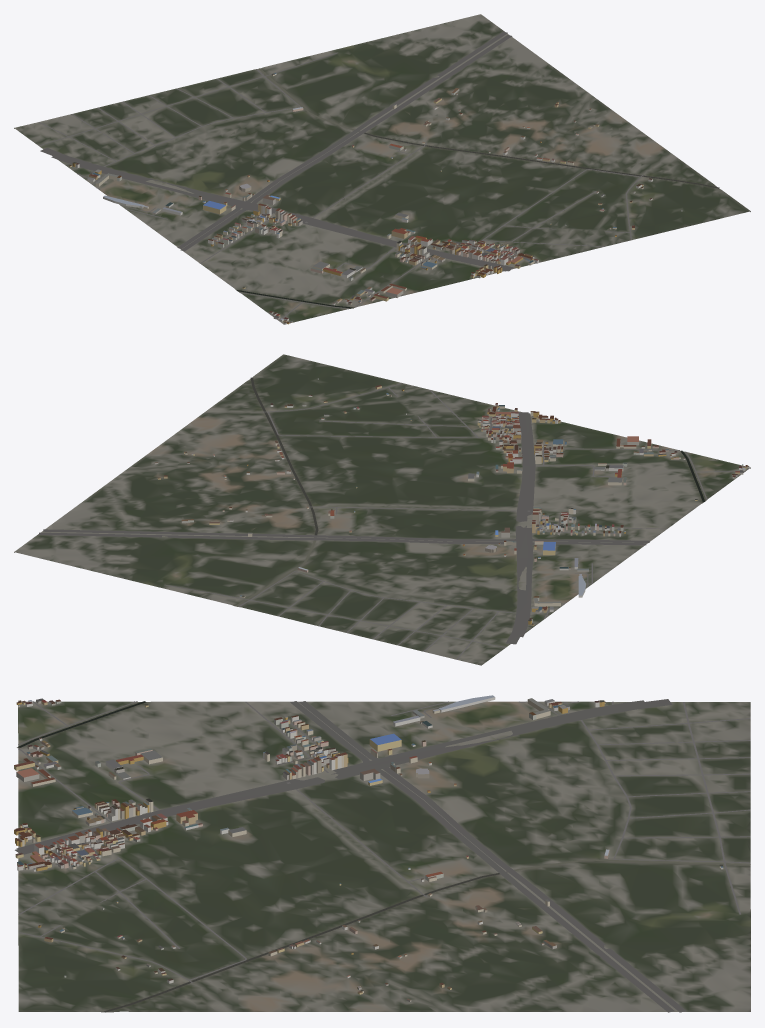
3 views of the same model, one above another, from view 1: azimuth 30°, elevation 25°; view 2: azimuth 150°, elevation 25°; view 3: azimuth 270°, elevation 25° (orthographic). The views are drawn at different scales.
Parts seen in each view (by area): view 1: ground, roads, buildings, water; view 2: ground, roads, buildings, water; view 3: ground, roads, buildings, water.
Part boxes in pixels (box(x1,y1,x2,y2)): ground: box(14, 14, 750, 324); roads: box(38, 31, 643, 320); buildings: box(69, 73, 682, 324); water: box(237, 68, 719, 308); ground: box(14, 354, 750, 665); roads: box(38, 383, 745, 659); buildings: box(154, 378, 749, 625); water: box(235, 377, 704, 606); ground: box(18, 701, 750, 1012); roads: box(15, 699, 750, 1012); buildings: box(14, 695, 723, 1001); water: box(17, 701, 750, 1012).
Size of the model in its own units: 1423 by 31.71 by 1411.
